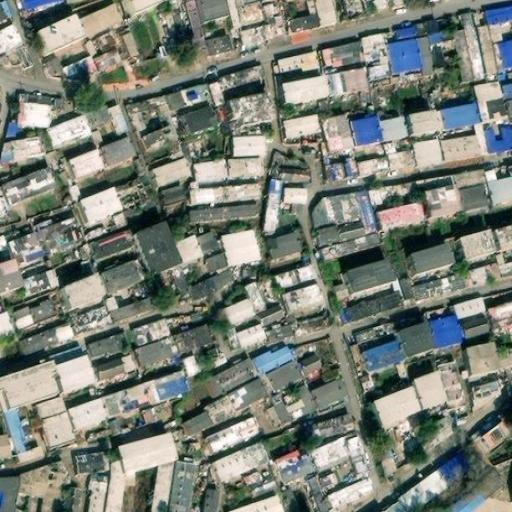building: (400, 453, 475, 512), (311, 188, 379, 243), (440, 467, 507, 512), (331, 256, 397, 300), (15, 460, 67, 512), (101, 378, 161, 422), (266, 379, 320, 427), (0, 165, 55, 212), (128, 316, 178, 367), (133, 223, 182, 275), (118, 430, 177, 473), (450, 11, 485, 83), (310, 431, 370, 473), (201, 415, 259, 458), (181, 394, 238, 437), (411, 18, 452, 76), (317, 469, 374, 509), (3, 407, 46, 460), (36, 396, 79, 449), (214, 442, 269, 483), (341, 289, 403, 325), (32, 215, 85, 257), (439, 119, 490, 162), (374, 385, 424, 425), (6, 229, 49, 275), (318, 229, 385, 258), (273, 444, 319, 485), (38, 13, 85, 53), (212, 359, 261, 397), (106, 284, 154, 322), (77, 1, 125, 39), (18, 323, 73, 356), (126, 94, 171, 134), (9, 296, 60, 331), (212, 63, 263, 98), (61, 273, 108, 310), (385, 26, 421, 74), (183, 271, 233, 305), (453, 296, 493, 338), (89, 228, 137, 263), (79, 187, 123, 225), (413, 272, 463, 304), (53, 355, 95, 393), (281, 75, 330, 107), (361, 34, 395, 80), (113, 174, 154, 212), (174, 232, 221, 265), (99, 258, 142, 294), (309, 412, 353, 447), (228, 377, 273, 411), (68, 398, 110, 434), (263, 358, 305, 394), (375, 201, 427, 230), (226, 94, 273, 126), (411, 242, 456, 275), (165, 80, 210, 113), (454, 171, 491, 211), (412, 369, 449, 409), (475, 79, 509, 122), (325, 66, 372, 97), (252, 342, 296, 375), (82, 103, 127, 135), (87, 331, 130, 364), (399, 321, 437, 358), (465, 340, 502, 378), (474, 24, 500, 78), (322, 114, 358, 153), (421, 184, 461, 219), (415, 416, 455, 451), (137, 120, 178, 154), (476, 415, 512, 453), (152, 368, 191, 403), (275, 50, 322, 79), (95, 350, 137, 382), (281, 281, 323, 313), (59, 53, 101, 85), (179, 347, 222, 378), (244, 276, 280, 313), (168, 461, 194, 512), (148, 461, 174, 512), (321, 40, 366, 69), (458, 260, 503, 289), (49, 116, 91, 147), (311, 376, 348, 411), (220, 296, 258, 330), (0, 34, 34, 72), (224, 228, 263, 261), (458, 229, 498, 261), (74, 305, 115, 336), (171, 322, 212, 353), (286, 111, 325, 143), (66, 148, 105, 180), (360, 341, 400, 372), (429, 314, 464, 349), (264, 230, 303, 261), (103, 460, 126, 512), (437, 362, 466, 402), (264, 176, 285, 231), (23, 268, 60, 298), (275, 264, 319, 289), (101, 134, 136, 165), (0, 136, 45, 160), (152, 157, 189, 186), (484, 167, 512, 205), (440, 102, 482, 127), (16, 95, 48, 127), (234, 322, 268, 352), (180, 106, 213, 136), (385, 145, 419, 174), (256, 300, 290, 329), (163, 261, 192, 294), (305, 478, 332, 512), (229, 495, 282, 512), (244, 464, 275, 493), (292, 314, 331, 337), (410, 108, 444, 134), (353, 116, 382, 146), (49, 344, 85, 368), (228, 157, 265, 180), (356, 156, 391, 180), (377, 115, 409, 141), (189, 181, 225, 204), (414, 139, 443, 167), (372, 442, 399, 472), (194, 158, 229, 181), (486, 299, 512, 329), (485, 124, 512, 152), (297, 352, 325, 379), (88, 475, 108, 512), (327, 158, 359, 181), (74, 450, 105, 472), (493, 40, 512, 75), (224, 185, 260, 203), (238, 24, 267, 46), (204, 33, 231, 56), (233, 138, 264, 158), (121, 29, 143, 57), (472, 377, 502, 397), (60, 488, 85, 512), (160, 183, 186, 206), (232, 0, 261, 20), (492, 222, 512, 251), (262, 15, 287, 38), (489, 19, 512, 44), (486, 2, 512, 24), (95, 48, 120, 70), (278, 165, 313, 180), (190, 208, 225, 223), (224, 206, 258, 221), (204, 249, 227, 271), (495, 249, 512, 277), (282, 185, 307, 203), (344, 0, 373, 15), (380, 498, 410, 512), (269, 324, 295, 340), (203, 486, 217, 512), (500, 72, 512, 100), (497, 348, 512, 369), (506, 98, 512, 117)
